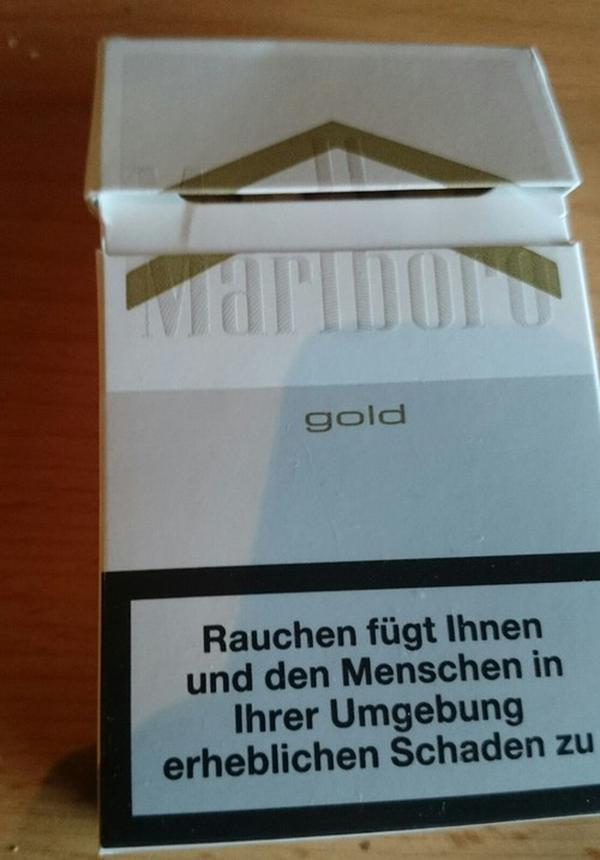marlboro_gold: (110, 48, 565, 826)
